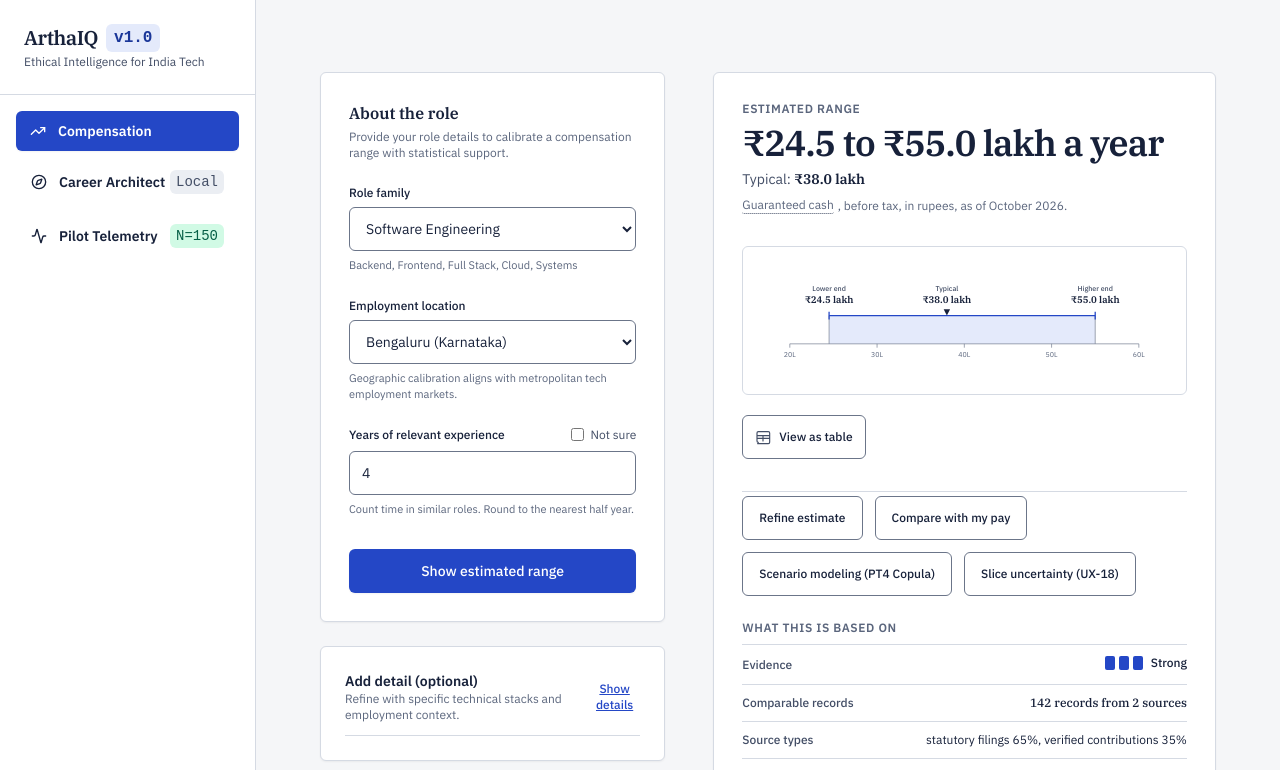
Test: NavigationShell (T15.28 Responsive Layout & Navigation) › switches from compensation to career mode on click
The image size is (1280, 770).
Check: the button "Show estimated range" is shown, box x1=349 y1=549 x2=636 y2=593
Note: Click Career Architect
Step 1. Click the button "Career Architect Local" → click(128, 182), box x1=16 y1=159 x2=239 y2=205
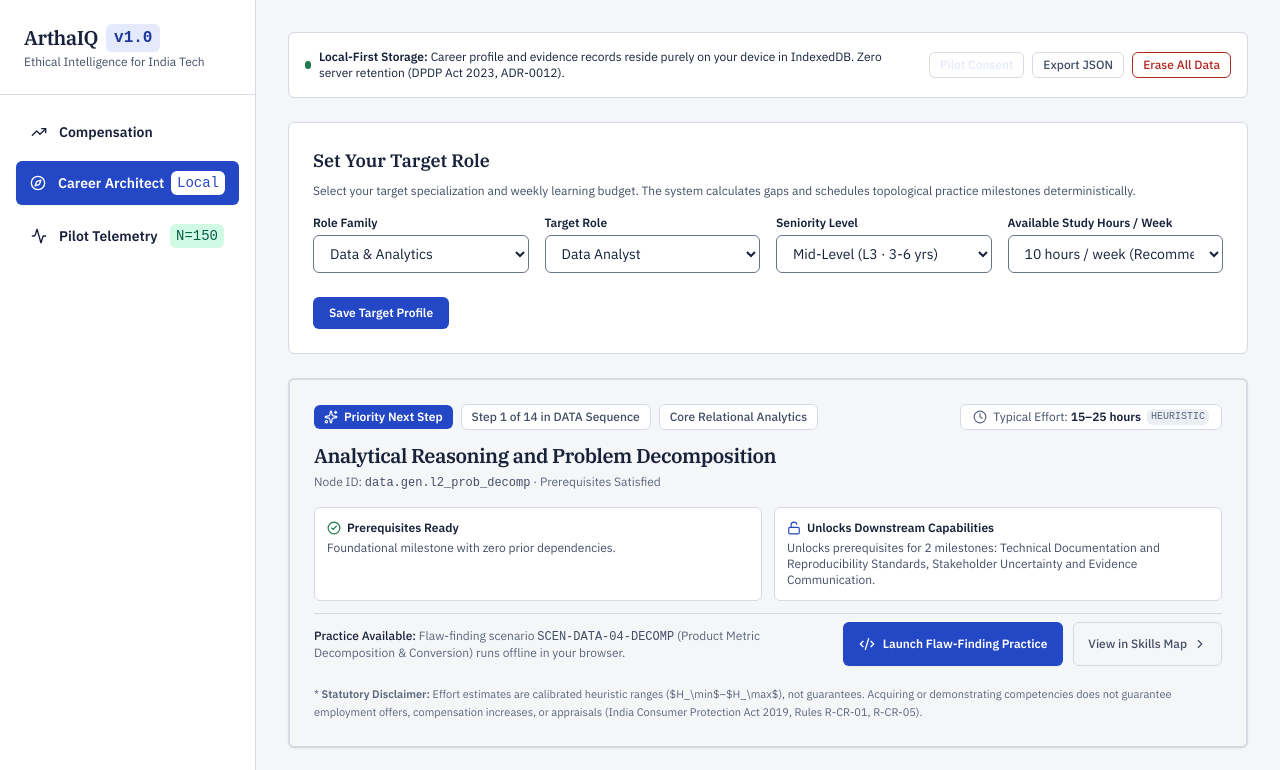
Check: the text "Local-First Storage:" is shown, box x1=319 y1=49 x2=428 y2=64
